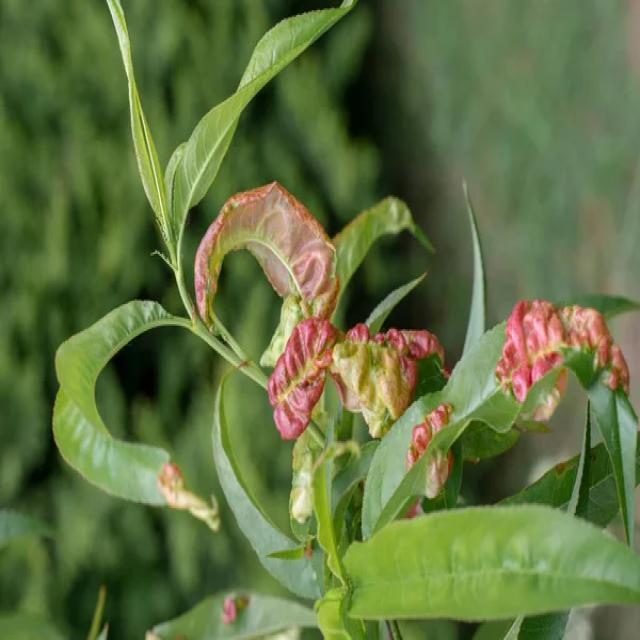peach_leaf_curl: (188, 192, 445, 440), (504, 256, 629, 409)
